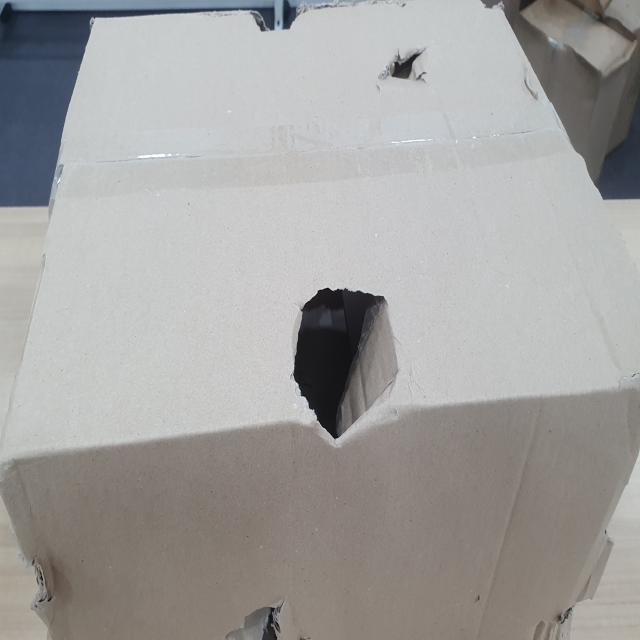hole: (288, 280, 404, 454), (380, 37, 433, 103), (234, 592, 303, 640)
